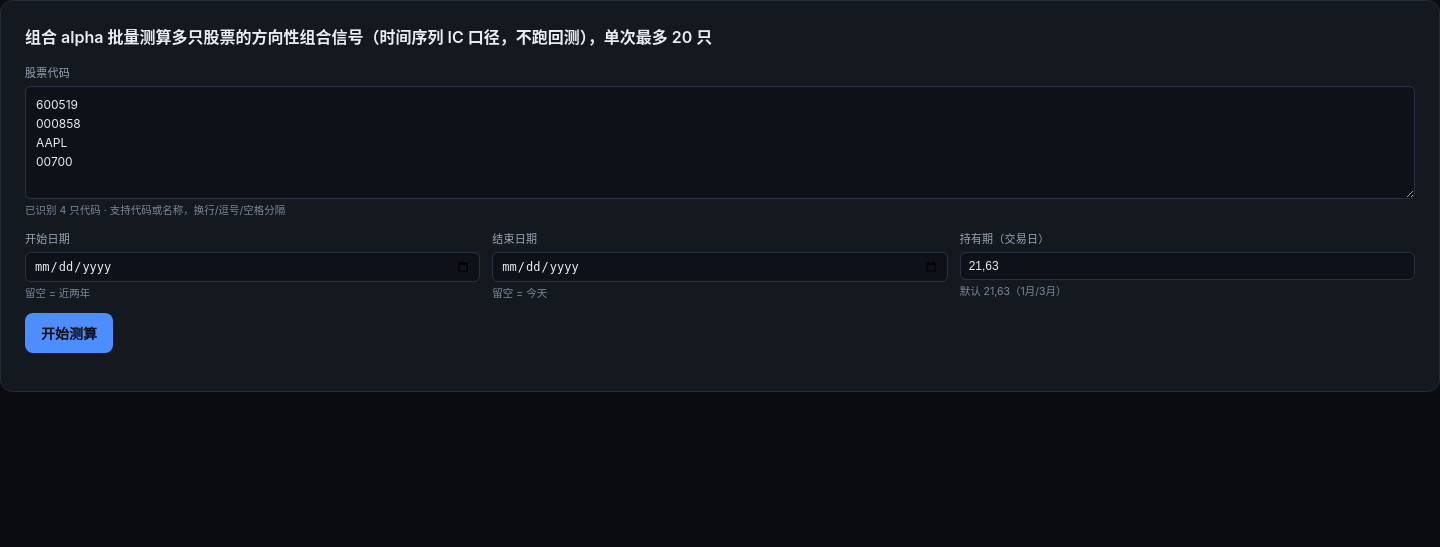
Test: CompositeBatchPanel —— 代码解析与请求参数 › 填写区间后随请求下发；自定义持有期去重并丢弃非正数/非数字
Replace the text in the text box labelled "股票代码 已识别 4 只代码 · 支持代码或名称，换行/逗号/空格分隔" with "600519" at (720, 142), box [25, 86, 1415, 199]
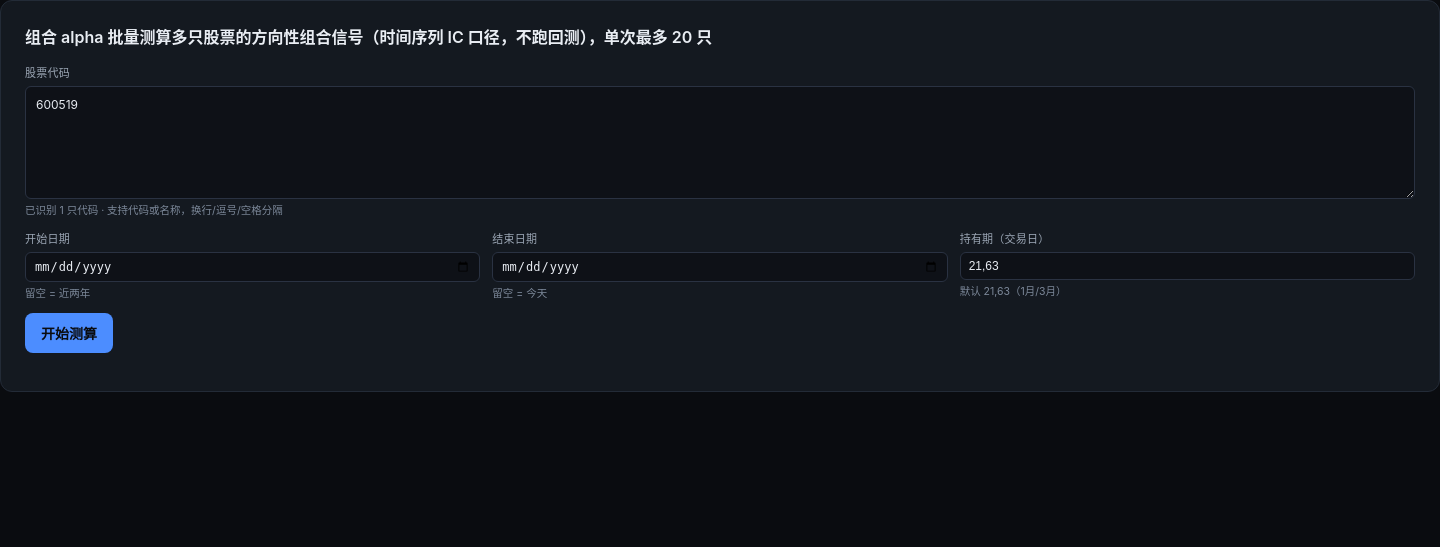
Type "2023-01-01" into the date field labelled "开始日期 留空 = 近两年" at (253, 267), box [25, 252, 480, 282]
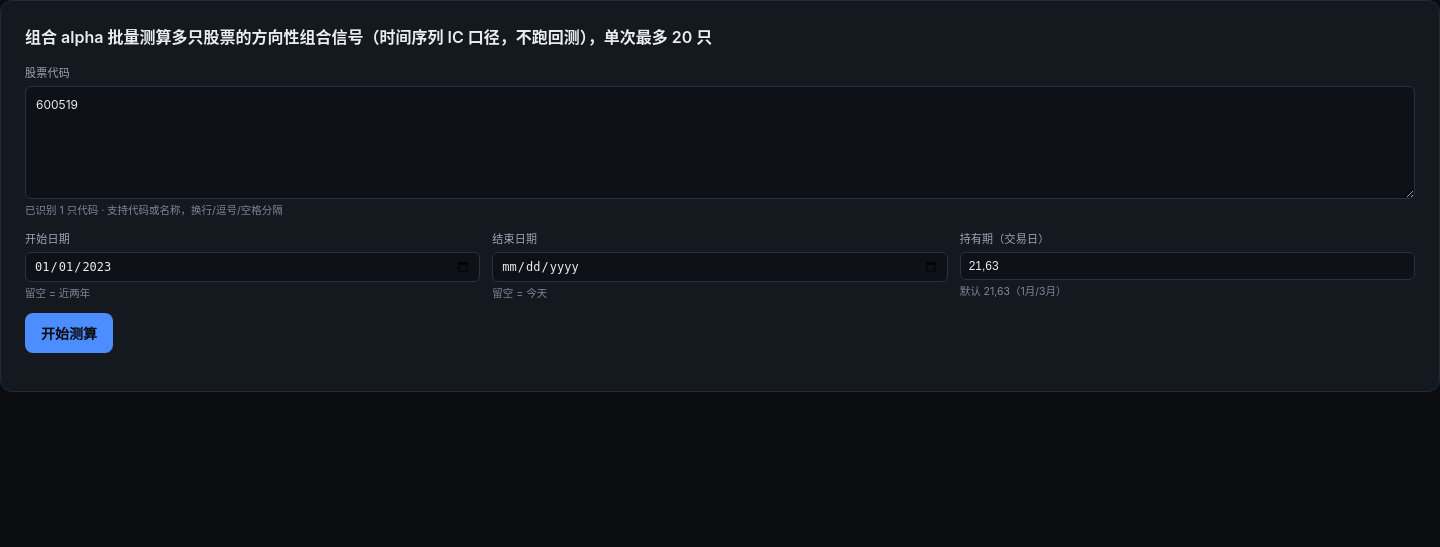
Type "2023-12-31" into the date field labelled "结束日期 留空 = 今天" at (720, 267), box [492, 252, 948, 282]
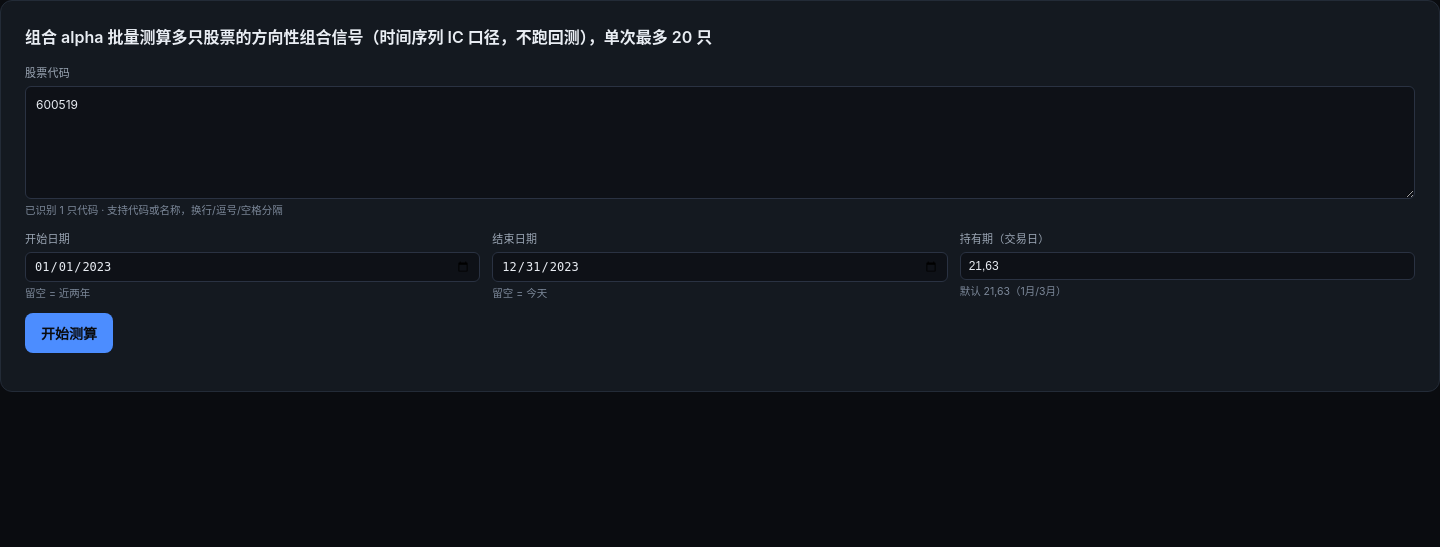
Replace the text in the field labelled "持有期（交易日） 默认 21,63（1月/3月）" with "5, 10, 10, -3, abc" at (1187, 266), box [960, 252, 1415, 280]
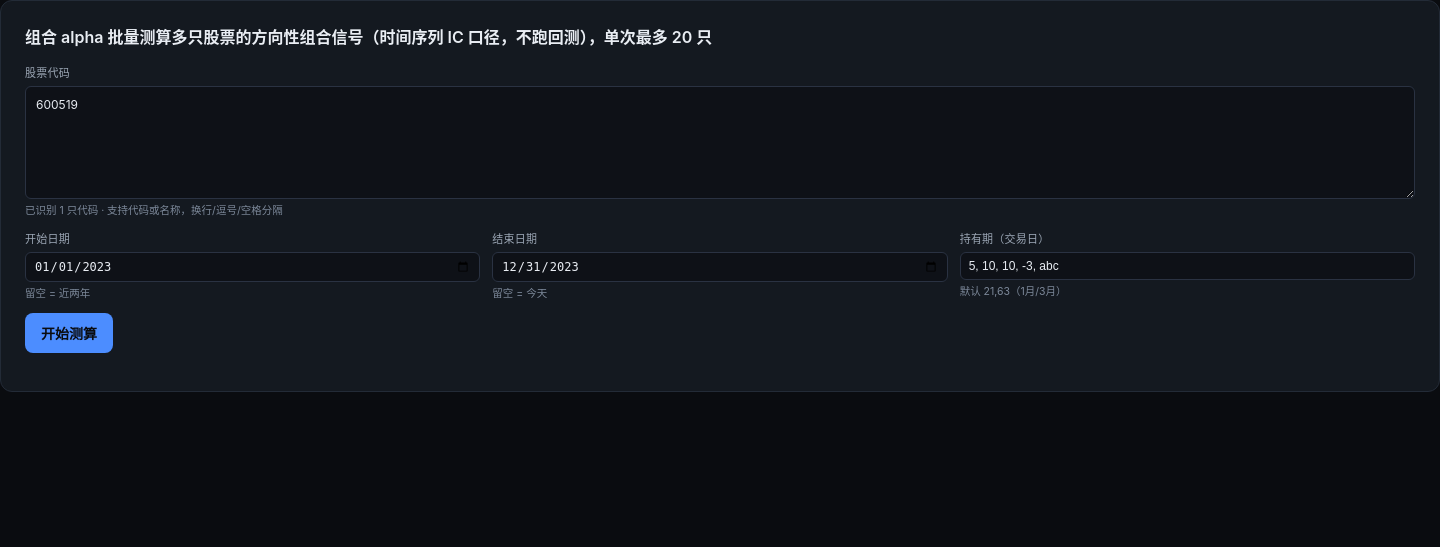
Click the button "开始测算" at (69, 333), box [25, 313, 113, 353]
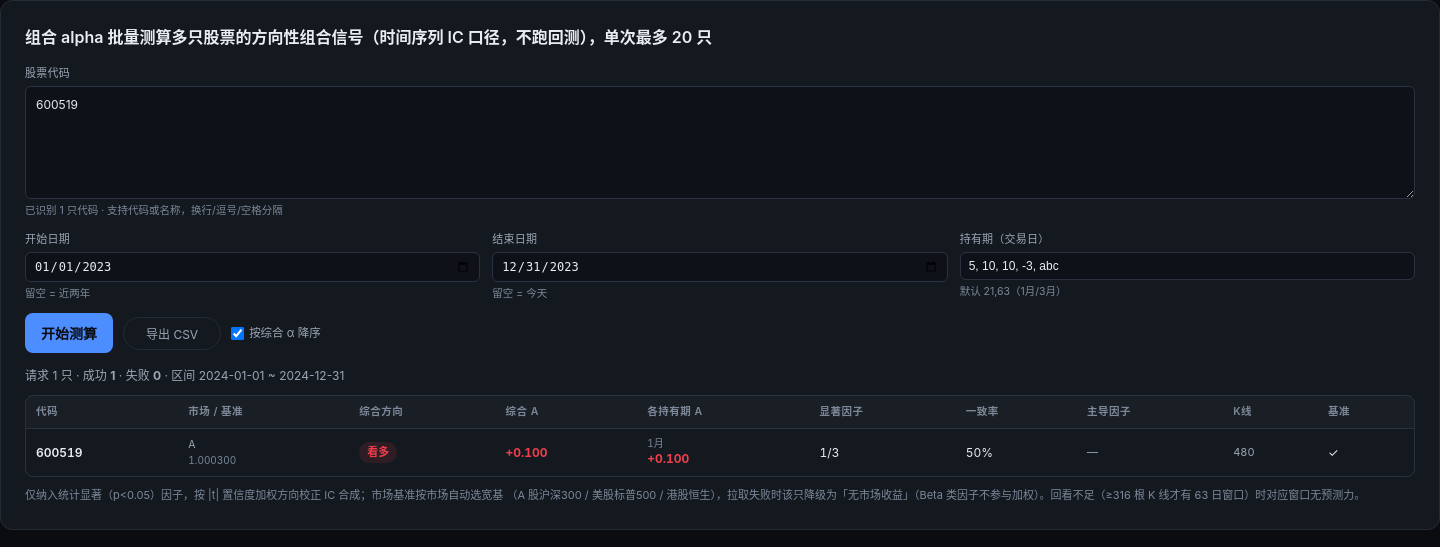
Expected: the table is shown, [26, 396, 1414, 476]
